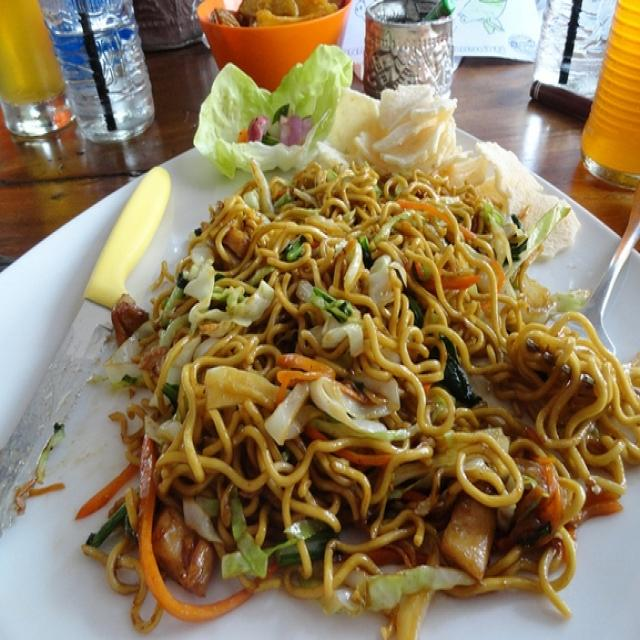面条主食: (80, 81, 615, 628)
